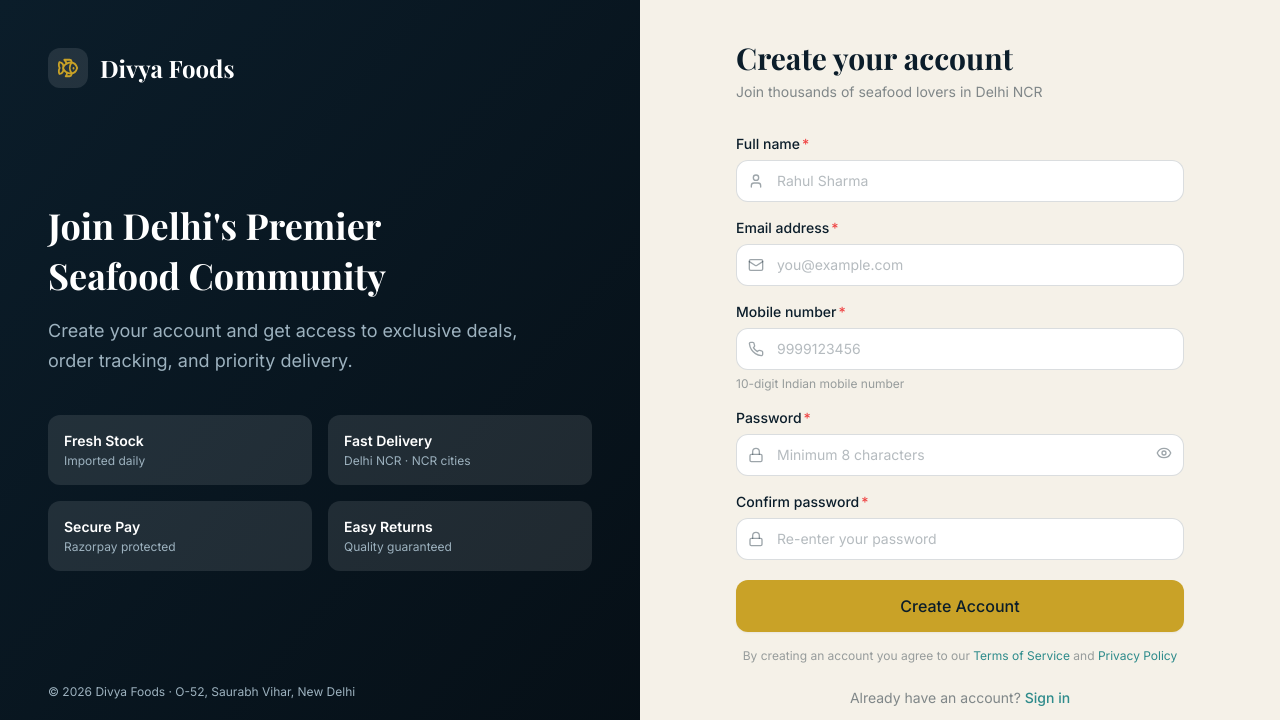
RegisterPage › shows validation errors for all empty required fields
Click the button "Create Account" at (960, 606), box [736,580,1184,632]
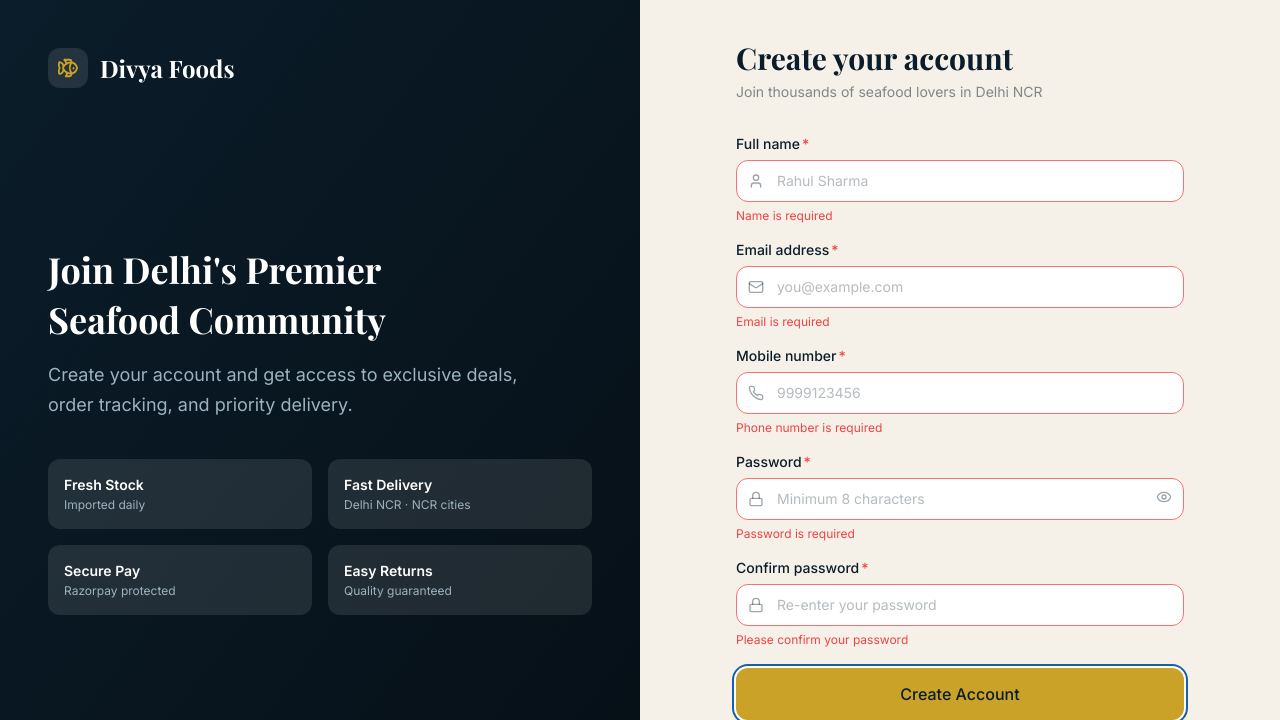
Expected: the text "Name is required" is shown, [736,208,833,223]
Expected: the text "Email is required" is shown, [736,314,830,329]
Expected: the text "Phone number is required" is shown, [736,420,882,435]
